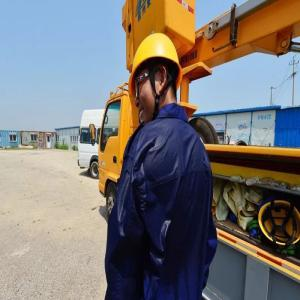yellow: (131, 33, 187, 131)
